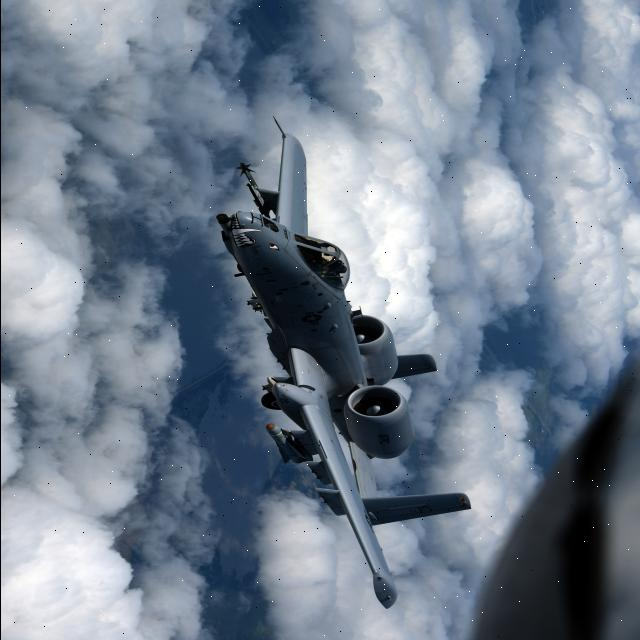A10: (210, 110, 490, 618)
